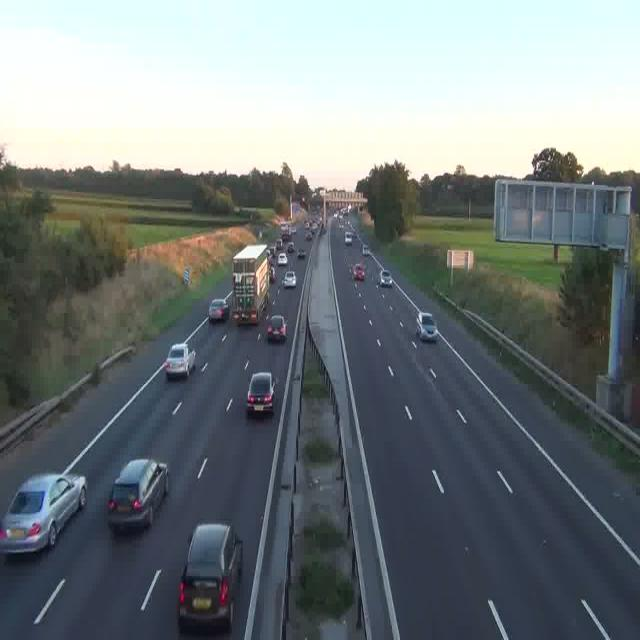car: (178, 523, 244, 632), (2, 474, 86, 554), (108, 458, 170, 530), (246, 372, 276, 417), (164, 342, 196, 379), (416, 310, 437, 340), (266, 314, 287, 341), (208, 298, 228, 322), (353, 261, 365, 282), (379, 268, 393, 286), (282, 270, 296, 286), (278, 250, 288, 266), (296, 246, 306, 259), (307, 228, 315, 241), (346, 232, 354, 244), (363, 243, 371, 254)
truck: (231, 245, 273, 322)
